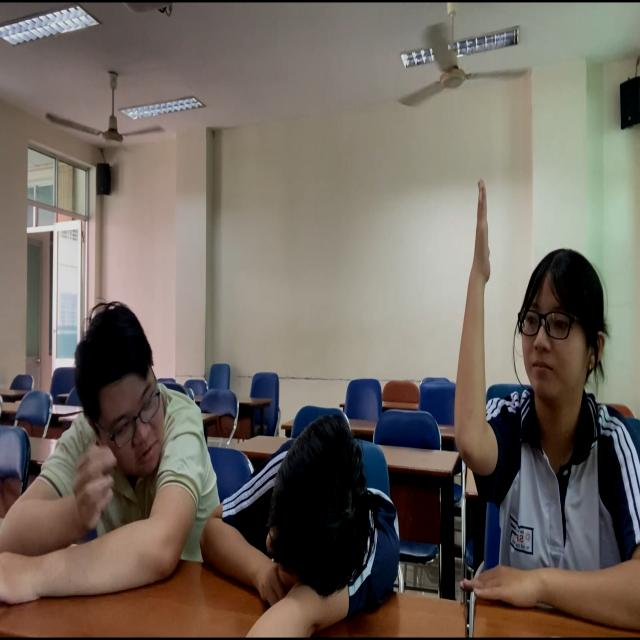raise_hand: (454, 169, 640, 633)
sleep: (198, 418, 422, 617)
